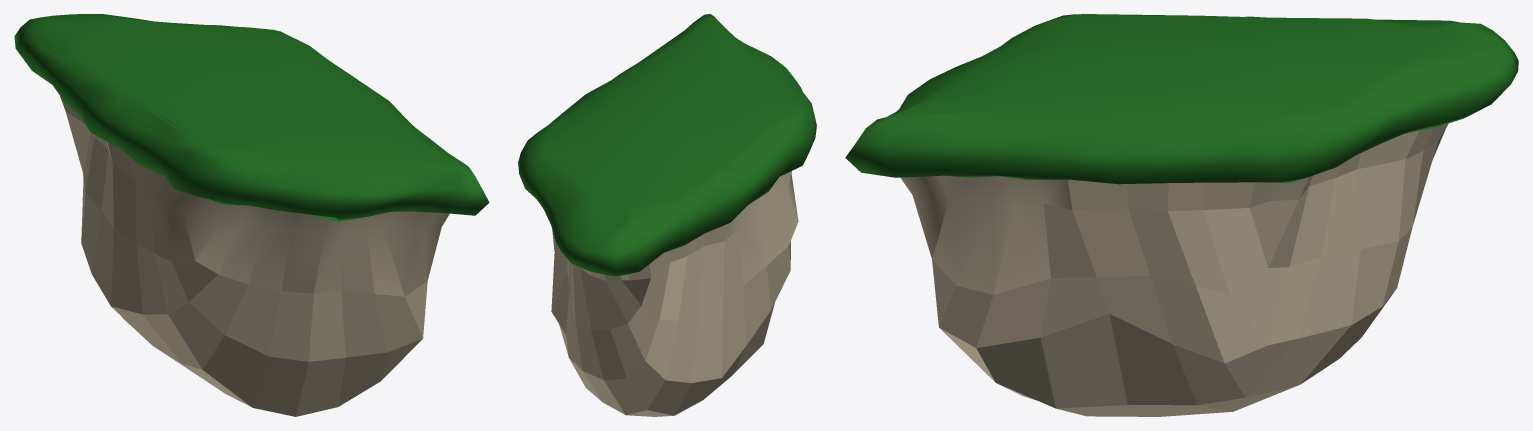
The model's file is SM_MiniIsland2.fbx.
The picture shows the model from 3 angles, left to right: view 1: azimuth 30°, elevation 25°; view 2: azimuth 150°, elevation 25°; view 3: azimuth 270°, elevation 25°; orthographic projection. The views are drawn at different scales.
Visible parts, largest first — view 1: SM_MiniIsland5; view 2: SM_MiniIsland5; view 3: SM_MiniIsland5.
Boxes of the visible parts, box(x1,y1,x2,y2) form: SM_MiniIsland5: box(14, 14, 489, 416); SM_MiniIsland5: box(518, 14, 816, 416); SM_MiniIsland5: box(845, 14, 1518, 416).
Bounding box in the file's own units: 4.33 × 5.35 × 9.23.
